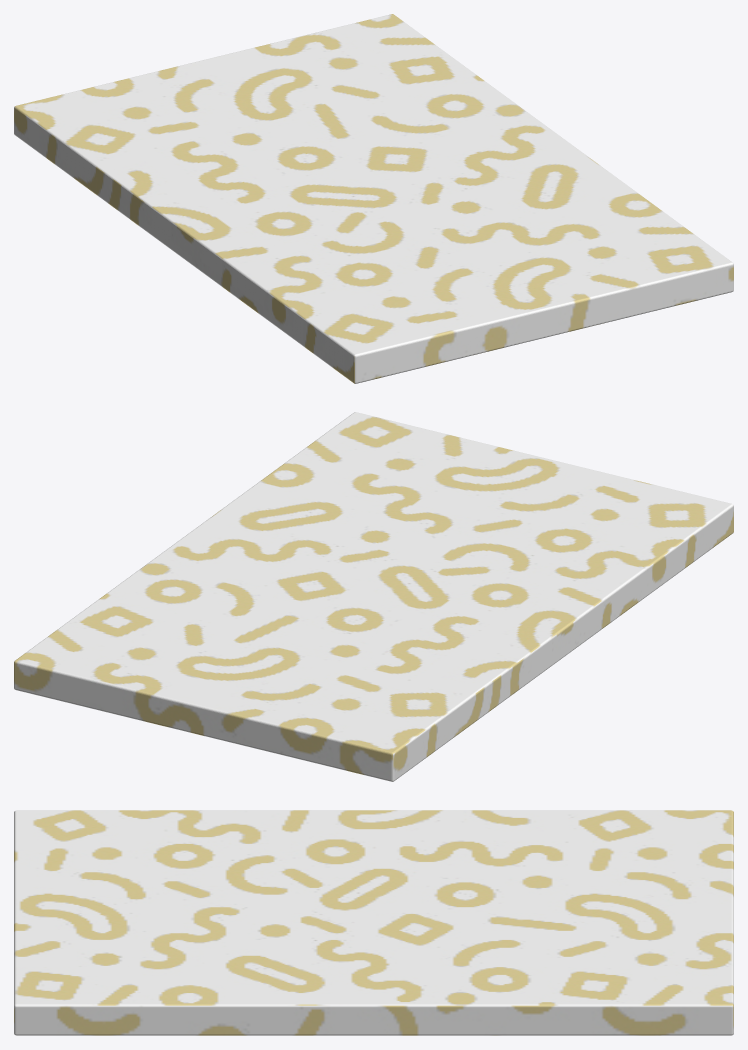
File: goldbox-1.glb
3 renders of one model, top to bottom at view 1: azimuth 30°, elevation 25°; view 2: azimuth 150°, elevation 25°; view 3: azimuth 270°, elevation 25°, orthographic. The views are drawn at different scales.
Parts seen in each view (by area): view 1: Cube.002; view 2: Cube.002; view 3: Cube.002.
Boxes of the visible parts, x1,y1,x2,y2 form: Cube.002: [14, 14, 733, 383]; Cube.002: [14, 412, 733, 781]; Cube.002: [14, 810, 733, 1035].
Bounding box in the file's own units: 0.135 × 0.01 × 0.21.
Materials: 1 (1 with a texture image).
